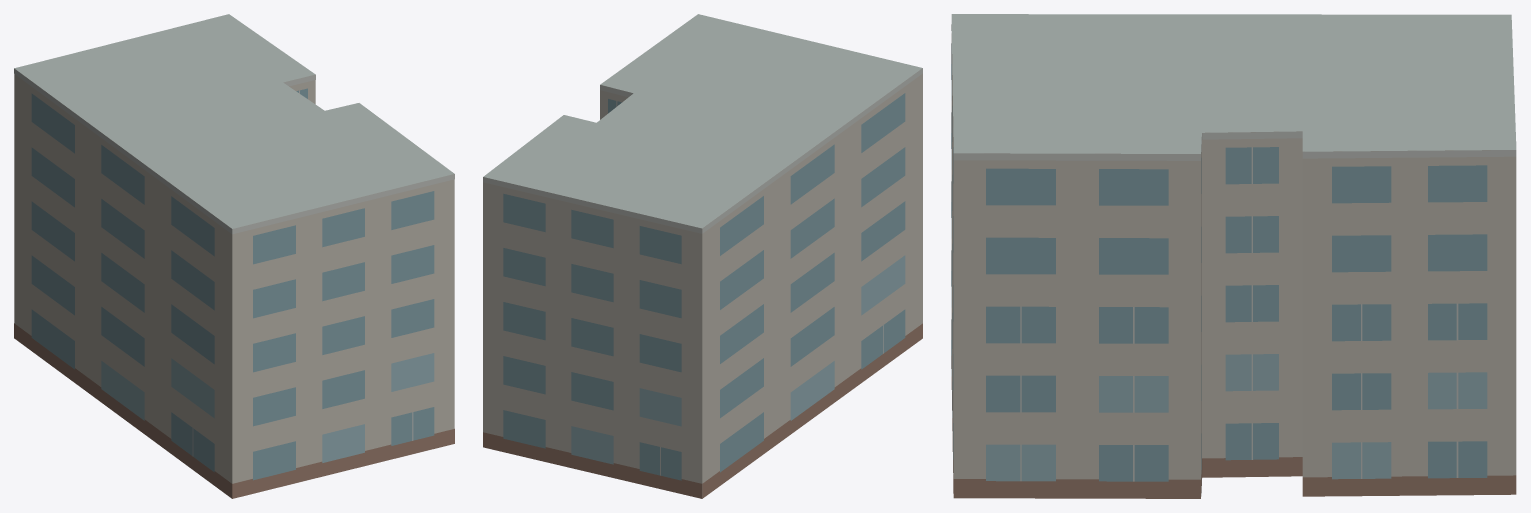
The model's file is survey-upis-32823821.glb.
3 views of the same model, side by side, from view 1: azimuth 30°, elevation 25°; view 2: azimuth 150°, elevation 25°; view 3: azimuth 270°, elevation 25° (orthographic). The views are drawn at different scales.
Parts seen in each view (by area): view 1: survey-upis-32823821.tmp; view 2: survey-upis-32823821.tmp; view 3: survey-upis-32823821.tmp.
Part boxes in pixels (x1=…): survey-upis-32823821.tmp: x1=14, y1=14, x2=454, y2=498; survey-upis-32823821.tmp: x1=483, y1=14, x2=922, y2=498; survey-upis-32823821.tmp: x1=951, y1=14, x2=1516, y2=498.
Bounding box in the file's own units: 10.63 × 12.2 × 18.13.
